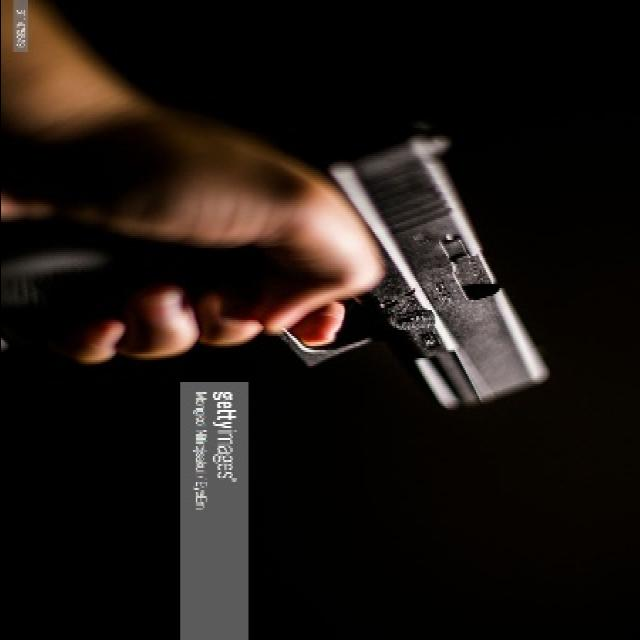handgun: (4, 123, 574, 413)
